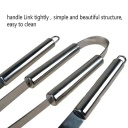fork: (1, 30, 127, 128)
